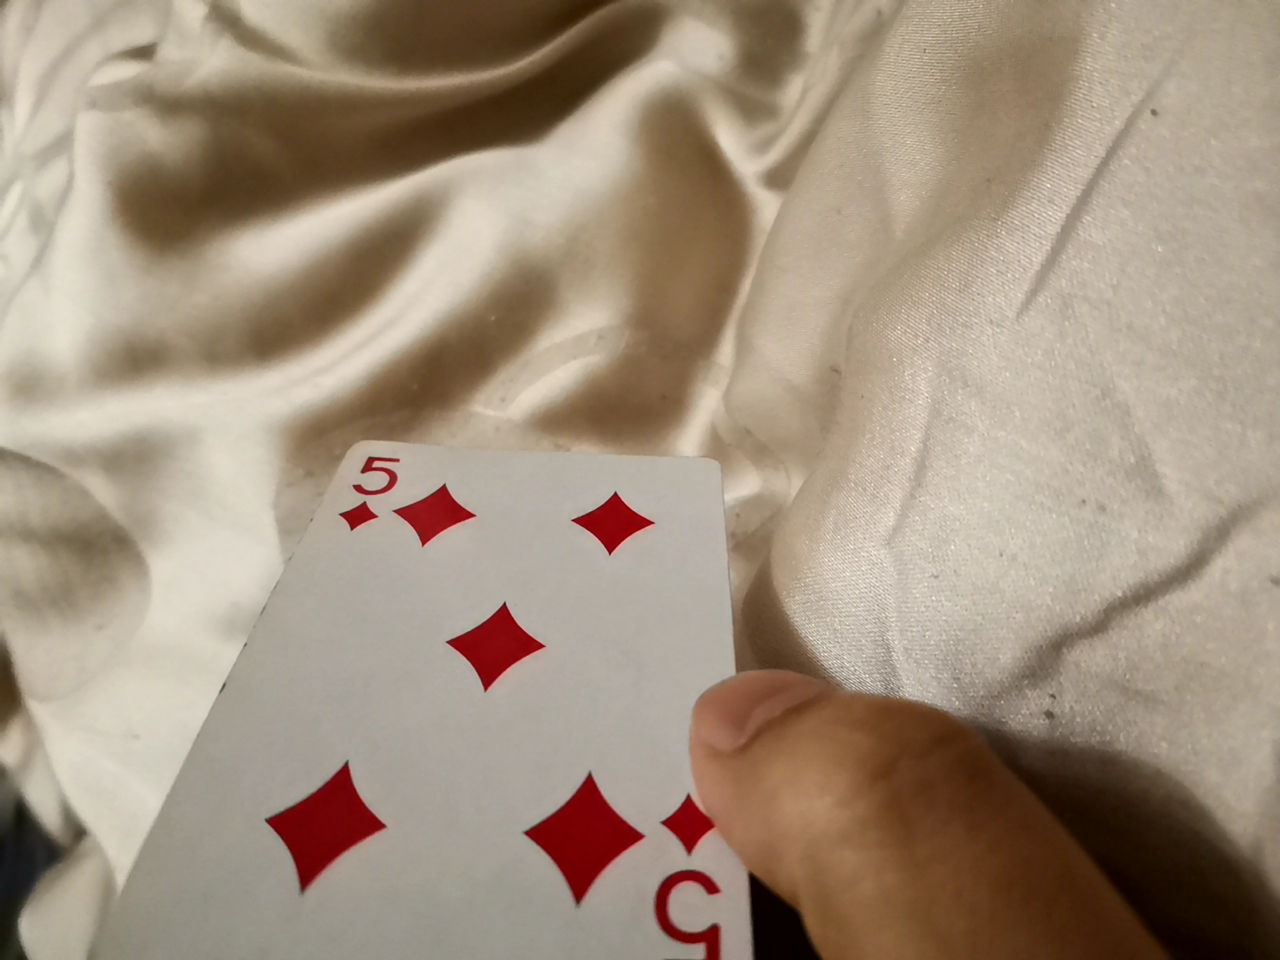fk 5: (125, 436, 756, 952)
